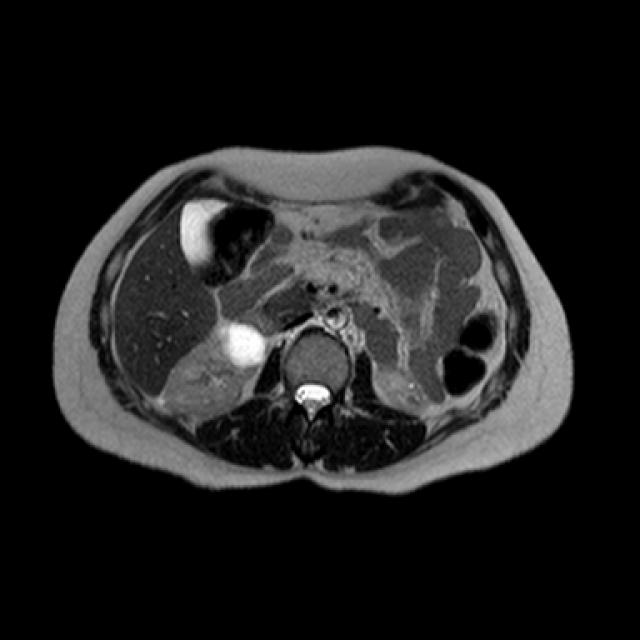sag: (159, 319, 267, 413)
sol: (375, 363, 423, 412)
